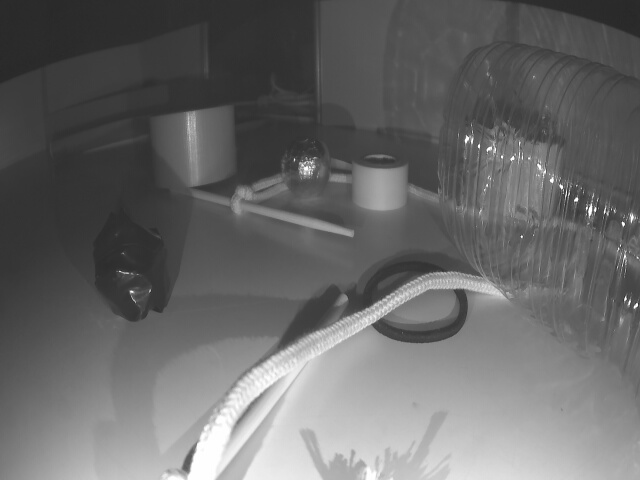Dead: (92, 214, 177, 317)
Live: (286, 137, 330, 197)
Point: (49, 91, 198, 148)
